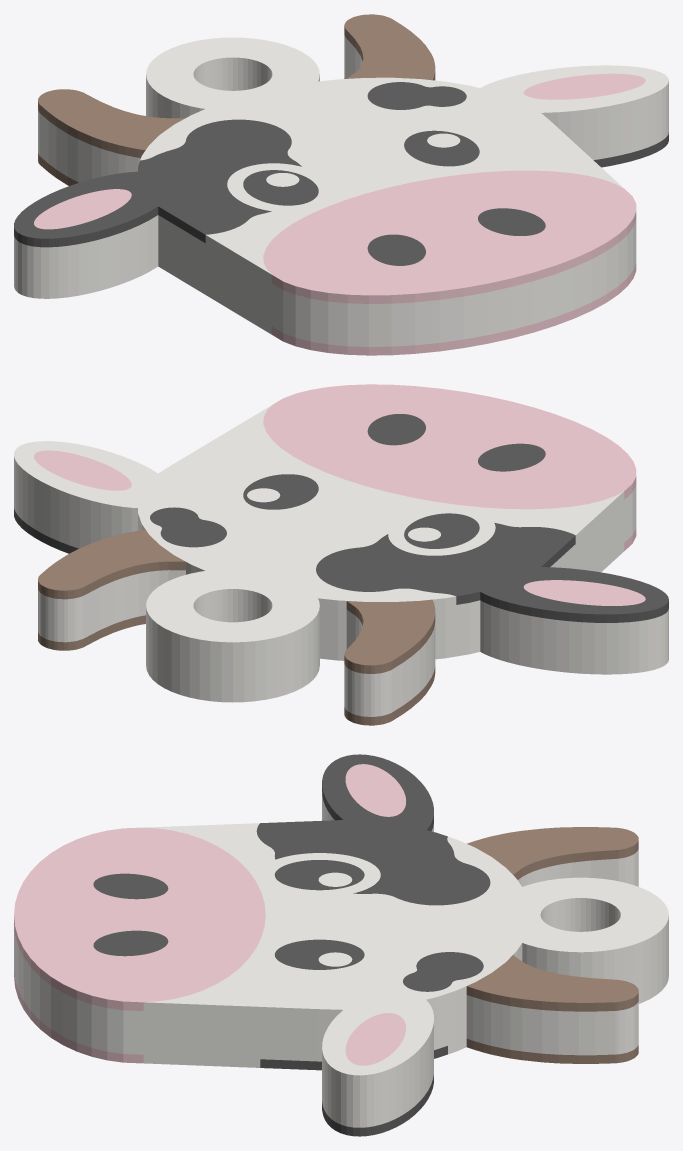
Rendered from CRW-001-cowaramup-keyring-classic-small.glb.
The picture shows the model from 3 angles, top to bottom: view 1: azimuth 30°, elevation 25°; view 2: azimuth 150°, elevation 25°; view 3: azimuth 270°, elevation 25°; orthographic projection.
Parts seen in each view (by area): view 1: T1 tool_1 [PLA Cow White] - core body, eye highlights, eye r, T3 tool_3 [PLA Cow Pink] - muzzle, inner ears, T2 tool_2 [PLA Cow Black] - eyes, nostrils, forehead spot, s, T4 tool_4 [TPU Earth Brown] - horns; view 2: T1 tool_1 [PLA Cow White] - core body, eye highlights, eye r, T3 tool_3 [PLA Cow Pink] - muzzle, inner ears, T2 tool_2 [PLA Cow Black] - eyes, nostrils, forehead spot, s, T4 tool_4 [TPU Earth Brown] - horns; view 3: T1 tool_1 [PLA Cow White] - core body, eye highlights, eye r, T3 tool_3 [PLA Cow Pink] - muzzle, inner ears, T2 tool_2 [PLA Cow Black] - eyes, nostrils, forehead spot, s, T4 tool_4 [TPU Earth Brown] - horns.
Part boxes in pixels (bbox=[...]): T1 tool_1 [PLA Cow White] - core body, eye highlights, eye r: bbox=[14, 35, 668, 346]; T3 tool_3 [PLA Cow Pink] - muzzle, inner ears: bbox=[34, 73, 645, 355]; T2 tool_2 [PLA Cow Black] - eyes, nostrils, forehead spot, s: bbox=[14, 82, 668, 265]; T4 tool_4 [TPU Earth Brown] - horns: bbox=[38, 14, 435, 185]; T1 tool_1 [PLA Cow White] - core body, eye highlights, eye r: bbox=[14, 405, 668, 716]; T3 tool_3 [PLA Cow Pink] - muzzle, inner ears: bbox=[34, 384, 645, 605]; T2 tool_2 [PLA Cow Black] - eyes, nostrils, forehead spot, s: bbox=[14, 414, 668, 622]; T4 tool_4 [TPU Earth Brown] - horns: bbox=[38, 529, 435, 725]; T1 tool_1 [PLA Cow White] - core body, eye highlights, eye r: bbox=[14, 791, 668, 1127]; T3 tool_3 [PLA Cow Pink] - muzzle, inner ears: bbox=[14, 764, 406, 1065]; T2 tool_2 [PLA Cow Black] - eyes, nostrils, forehead spot, s: bbox=[93, 754, 490, 1136]; T4 tool_4 [TPU Earth Brown] - horns: bbox=[466, 827, 638, 1063].
Size of the model in its own units: 0.0473 by 0.0042 by 0.0408.
